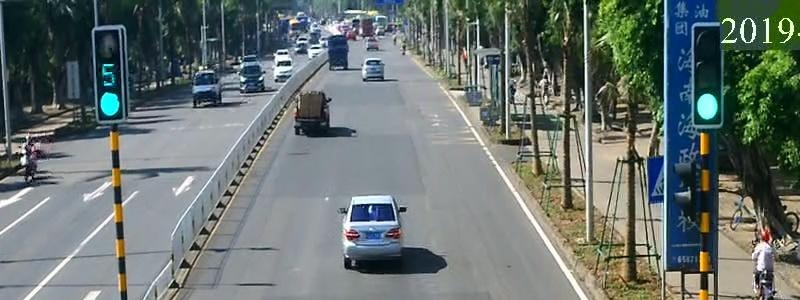green: (89, 89, 136, 134), (691, 89, 737, 133)
greentime: (81, 59, 142, 88)
